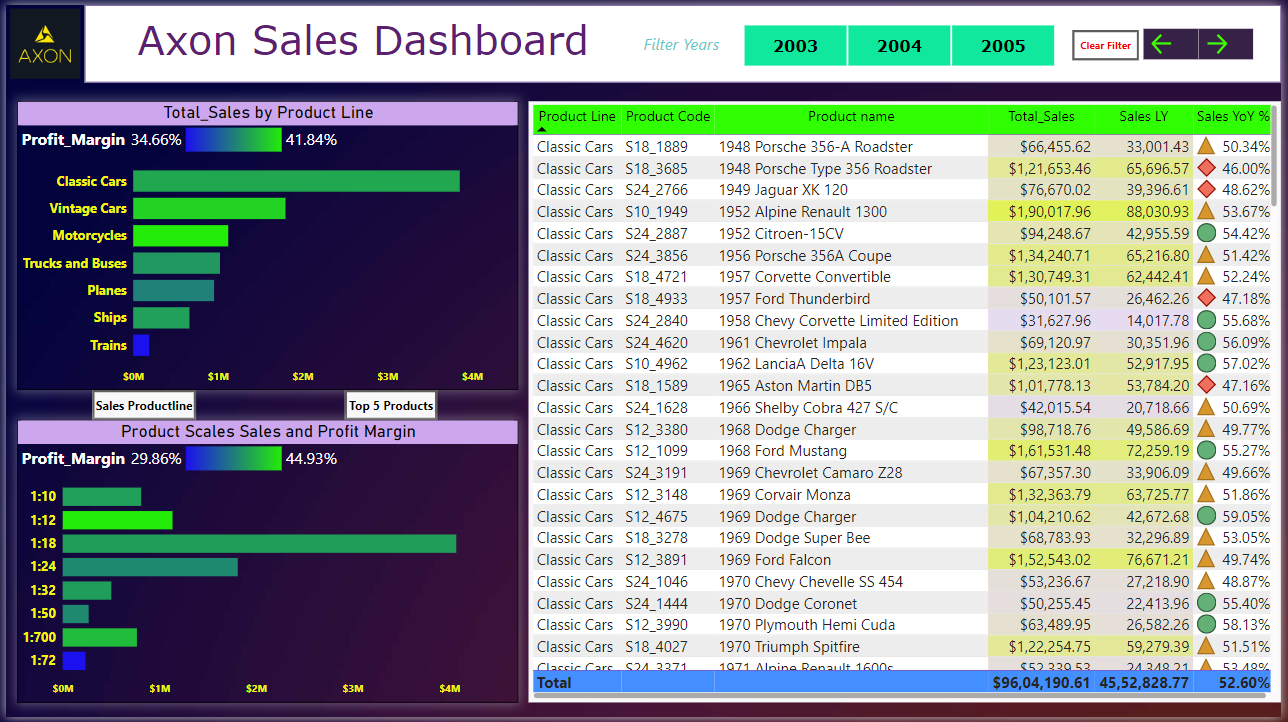

The dashboard page shown, as its layout file describes it:
{"tool":"powerbi","page":{"name":"Product Sales YoY %","canvas":[1700,950],"ordinal":3},"visuals":[{"type":"tableEx","fields":{"Values":["classicmodels products.productLine","classicmodels products.productCode","classicmodels products.productName","Base_Measures.Total_Sales","Time Intelligence Calc.Sales LY","Time Intelligence Calc.Sales YoY %"]},"box":[696.7,128.3,1003.3,801.7],"z":0},{"type":"shape","box":[104.8,0,1595.2,103.2],"z":1000},{"type":"textbox","box":[114.5,8.1,722.6,79],"z":2000},{"type":"slicer","title":"Year","fields":{"Values":["DATES.Date.Variation.Date Hierarchy.Year"]},"box":[958,19.5,463.6,68.1],"z":3000},{"type":"actionButton","box":[1590.1,32.4,72.9,40.5],"z":4000},{"type":"actionButton","box":[1421.5,34,89.1,40.5],"z":5000},{"type":"textbox","box":[837,31.8,127.3,44.6],"z":6000},{"type":"actionButton","box":[1517.2,32.4,72.9,40.5],"z":7000},{"type":"image","box":[0,0,105,103.4],"z":8000},{"type":"clusteredBarChart","title":"Top 5 Products Sales and  Profit Margin","fields":{"Y":["Base_Measures.Total_Sales"],"Category":["classicmodels products.Product name"]},"box":[15,128.3,668.3,376.7],"z":10000},{"type":"actionButton","box":[451.7,513.3,123.3,40],"z":11000},{"type":"actionButton","box":[115,513.3,138.3,40],"z":12000},{"type":"clusteredBarChart","title":"Product Scales Sales and  Profit Margin","fields":{"Y":["Base_Measures.Total_Sales"],"Category":["classicmodels products.Product Scale"]},"box":[15,553.3,668.3,376.7],"z":13000}]}

Visuals, with their boxes in screenshot pixels (x1, y1, x2, y2), scaled from the page's 1700x950 canvas onto the 1288x722 screenshot:
tableEx - classicmodels products.productLine x classicmodels products.productCode: 528/98/1287/707
shape: 79/0/1287/78
textbox: 87/6/634/66
"Year" slicer: 726/15/1077/67
actionButton: 1205/25/1260/55
actionButton: 1077/26/1145/57
textbox: 634/24/731/58
actionButton: 1150/25/1205/55
image: 0/0/80/79
"Top 5 Products Sales and  Profit Margin" clusteredBarChart: 11/98/518/384
actionButton: 342/390/436/421
actionButton: 87/390/192/421
"Product Scales Sales and  Profit Margin" clusteredBarChart: 11/421/518/707
